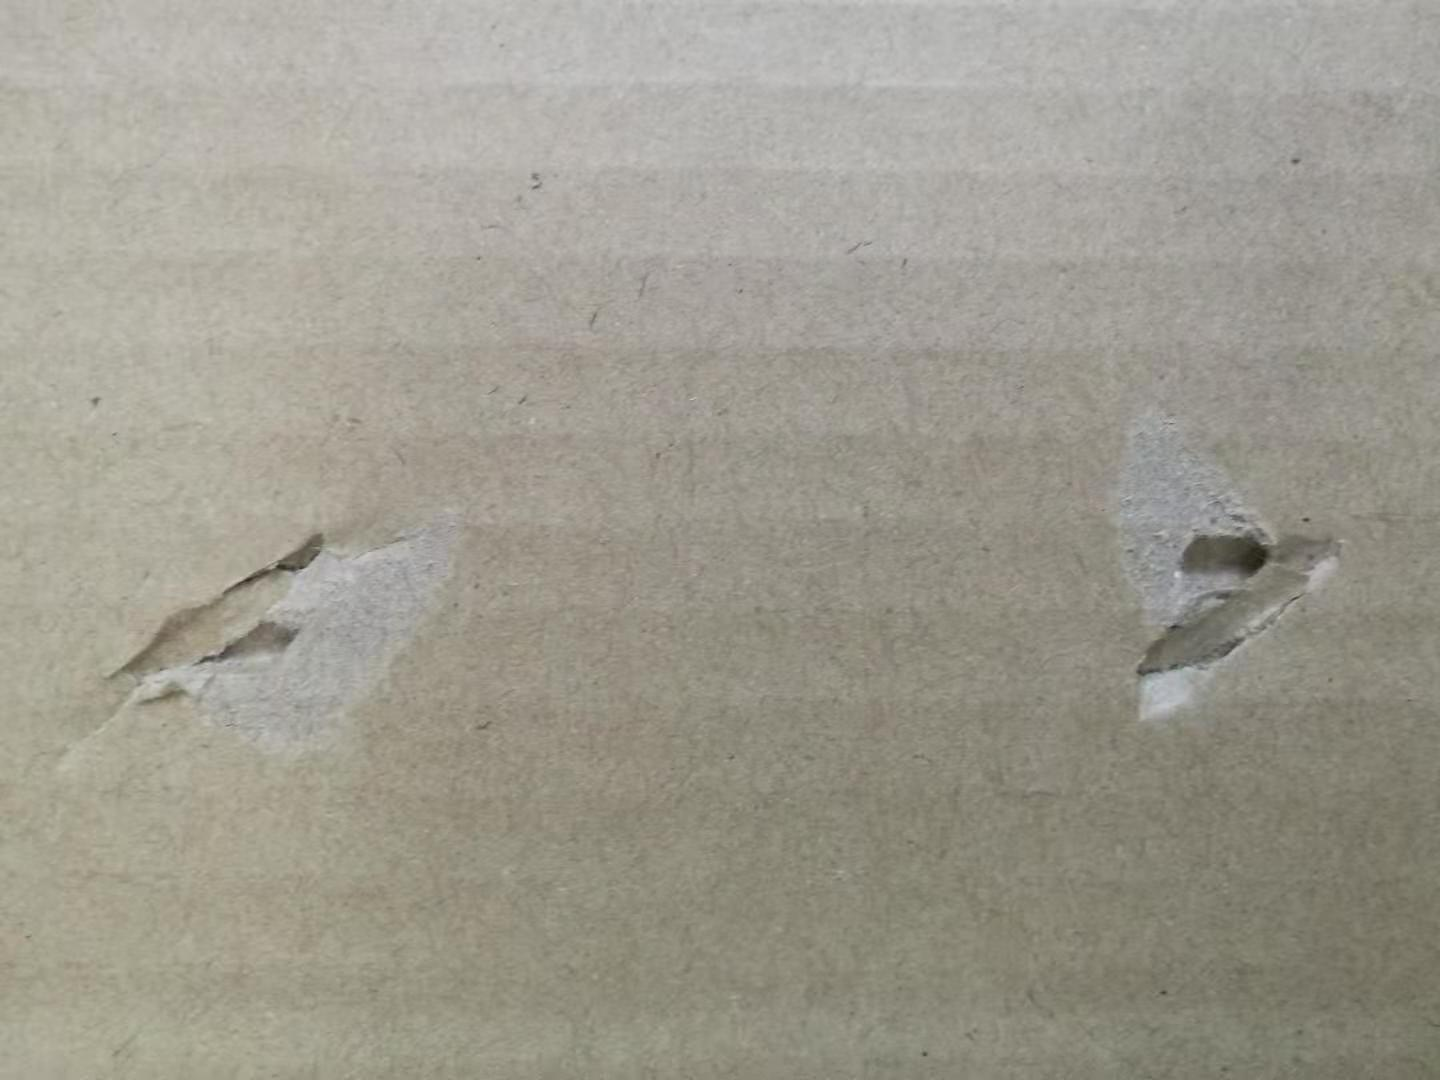defect: (31, 479, 516, 798), (1082, 381, 1382, 757)
